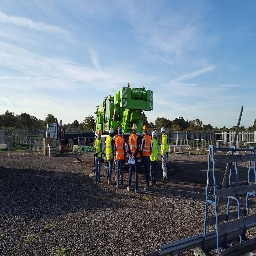person: (103, 126, 116, 185), (142, 122, 151, 187), (131, 120, 139, 184), (161, 126, 170, 182), (151, 130, 159, 192), (95, 128, 103, 186), (117, 126, 124, 189)
